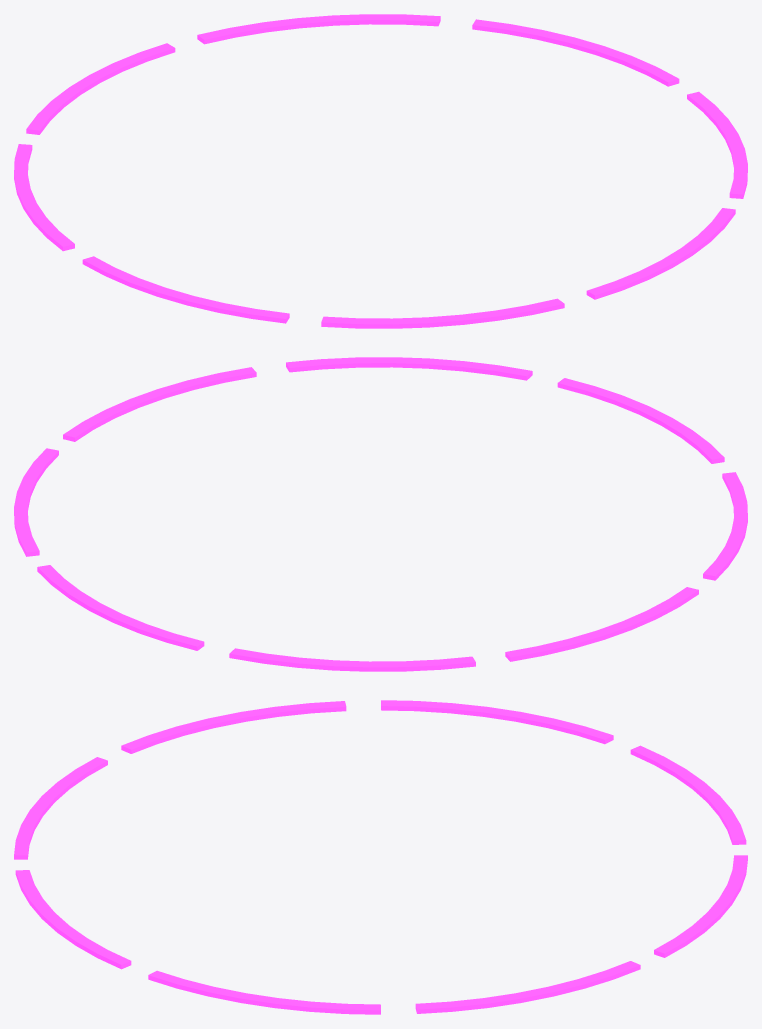
The model's file is NT_SpawnRing_Magenta.fbx.
3 renders of one model, top to bottom at view 1: azimuth 30°, elevation 25°; view 2: azimuth 150°, elevation 25°; view 3: azimuth 270°, elevation 25°, orthographic.
Visible parts, largest first — view 1: NT_SpawnRing_Magenta__EffectMesh; view 2: NT_SpawnRing_Magenta__EffectMesh; view 3: NT_SpawnRing_Magenta__EffectMesh.
Boxes of the visible parts, x1=… form: NT_SpawnRing_Magenta__EffectMesh: x1=14, y1=14, x2=747, y2=328; NT_SpawnRing_Magenta__EffectMesh: x1=14, y1=357, x2=747, y2=671; NT_SpawnRing_Magenta__EffectMesh: x1=14, y1=700, x2=747, y2=1014.
Size of the model in its own units: 2.38 by 0.016 by 2.38.
